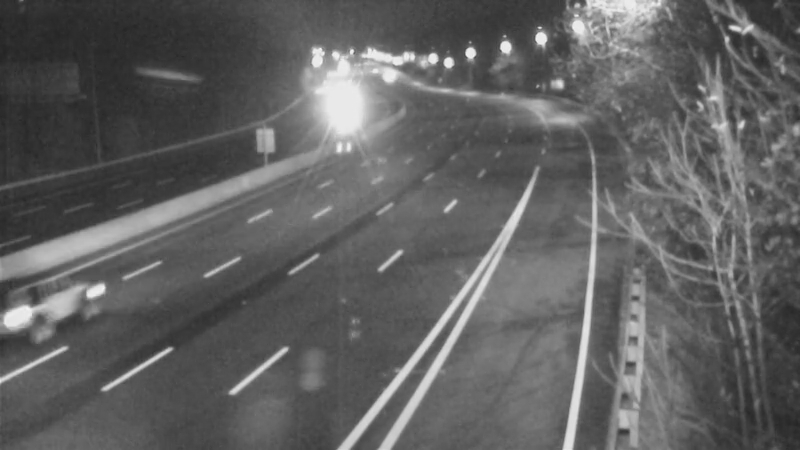vehicle: (12, 255, 92, 335), (316, 94, 366, 144)
